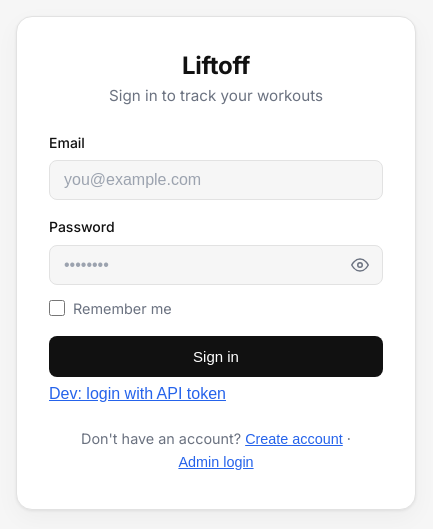
Test: LoginPage › show password toggle reveals the password
This screenshot has width=433, height=529.
Click the button named "show password".
click(360, 265)  # box [347, 252, 373, 278]
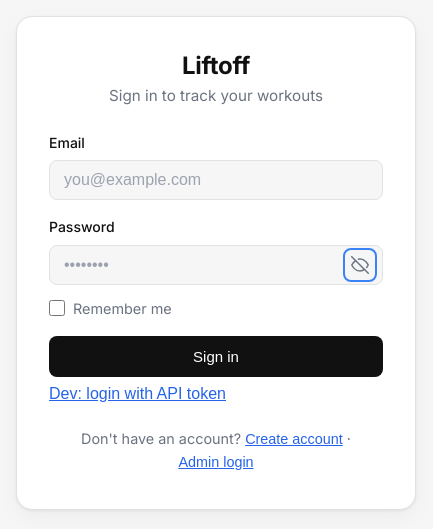
Result: the button named "hide password" is shown at [347, 252, 373, 278]
